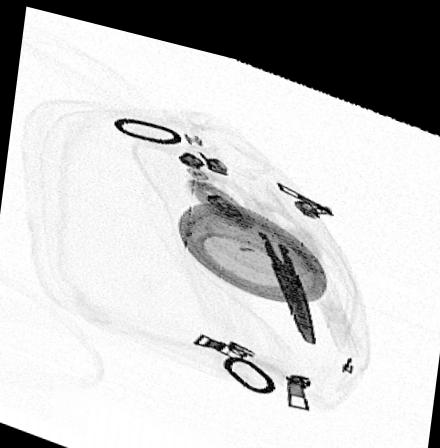Scissors: (182, 168, 322, 331)
